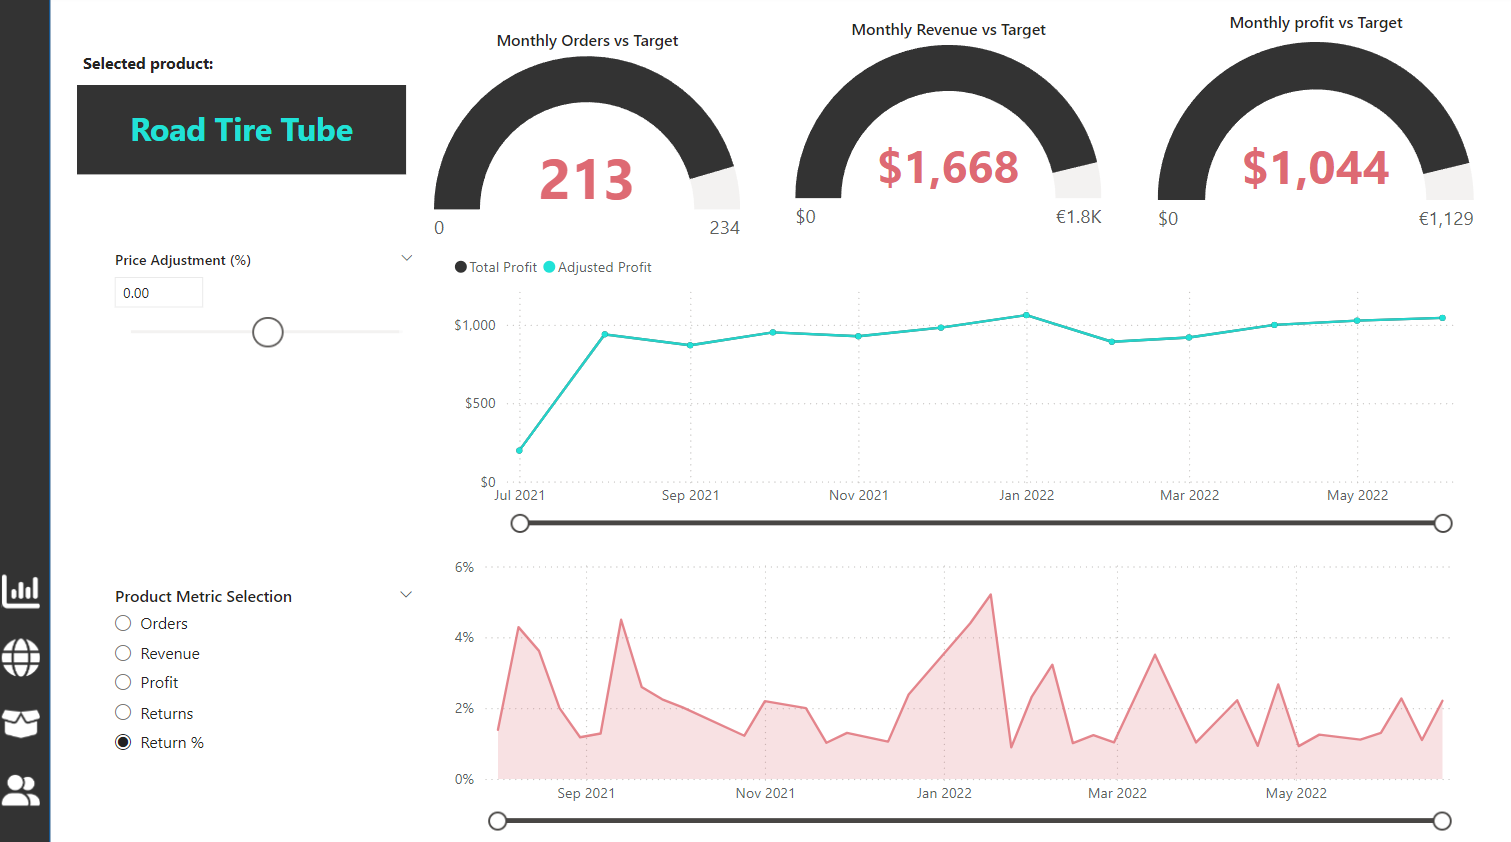

What the dashboard file says about the page in this screenshot:
{"tool":"powerbi","page":{"name":"Product Detail","canvas":[1280,720],"ordinal":2},"visuals":[{"type":"shape","box":[0,0,45,720],"z":0},{"type":"actionButton","box":[0,481.4,44.5,40.3],"z":1000,"group":"g1"},{"type":"gauge","title":"Monthly Orders vs Target","fields":{"Y":["Measure Table.Total Orders"],"MaxValue":["Measure Table.Order Target"]},"box":[362.3,28.8,267.6,189.4],"z":1000},{"type":"gauge","title":"Monthly Revenue vs Target","fields":{"Y":["Measure Table.Total Revenue"],"MaxValue":["Measure Table.Revenue Target"]},"box":[666.9,19.2,267.6,189.4],"z":2000},{"type":"actionButton","box":[0,592.7,44.5,40.3],"z":2000,"group":"g1"},{"type":"gauge","title":"Monthly profit vs Target","fields":{"Y":["Measure Table.Total Profit"],"MaxValue":["Measure Table.Profit Target"]},"box":[971.5,13.7,275.8,199],"z":3000},{"type":"actionButton","box":[0,648.4,44.5,40.3],"z":3000,"group":"g1"},{"type":"actionButton","box":[0,537.1,44.5,40.3],"z":4000,"group":"g1"},{"type":"lineChart","title":"Profit Trending","fields":{"Category":["Calendar Lookup.Date Hierarchy.Start of Year","Calendar Lookup.Date Hierarchy.Start of Month","Calendar Lookup.Date Hierarchy.Start of Week","Calendar Lookup.Date Hierarchy.Date"],"Y":["Measure Table.Total Profit","Measure Table.Adjusted Profit"]},"box":[379.6,209.1,867.5,246.2],"z":4000},{"type":"areaChart","title":"Return Trending","fields":{"Y":["Measure Table.Return Rate"],"Category":["Calendar Lookup.Date Hierarchy.Start of Year","Calendar Lookup.Date Hierarchy.Start of Month","Calendar Lookup.Date Hierarchy.Start of Week","Calendar Lookup.Date Hierarchy.Date"]},"box":[379.6,467.1,867.5,238.7],"z":5000},{"type":"card","title":"ProductName ","fields":{"Values":["Min(Product Lookup.ProductName)"]},"box":[67.2,75.5,277.2,75.5],"z":6000},{"type":"textbox","box":[67.8,43.3,165.6,32.2],"z":7000},{"type":"group","id":"g1","title":"Group 1","box":[0,481.4,44.5,207.3],"z":8000},{"type":"slicer","fields":{"Values":["Price Adjustment (%).Price Adjustment (%)"]},"box":[86,209.1,275.8,120.1],"z":8001},{"type":"slicer","fields":{"Values":["Product Metric Selection.Product Metric Selection"]},"box":[86,490.8,275.8,157.2],"z":8002}]}

Visuals, with their boxes on the page's 1280x720 design canvas (x1, y1, x2, y2). These are canvas units, not pixel positions in the 1511x842 screenshot, which may show the page scaled, cropped or inside an application window:
shape: region(0, 0, 45, 720)
actionButton: region(0, 481, 44, 522)
"Monthly Orders vs Target" gauge: region(362, 29, 630, 218)
"Monthly Revenue vs Target" gauge: region(667, 19, 934, 209)
actionButton: region(0, 593, 44, 633)
"Monthly profit vs Target" gauge: region(972, 14, 1247, 213)
actionButton: region(0, 648, 44, 689)
actionButton: region(0, 537, 44, 577)
"Profit Trending" lineChart: region(380, 209, 1247, 455)
"Return Trending" areaChart: region(380, 467, 1247, 706)
"ProductName " card: region(67, 76, 344, 151)
textbox: region(68, 43, 233, 76)
"Group 1" group: region(0, 481, 44, 689)
slicer - Price Adjustment (%).Price Adjustment (%): region(86, 209, 362, 329)
slicer - Product Metric Selection.Product Metric Selection: region(86, 491, 362, 648)
